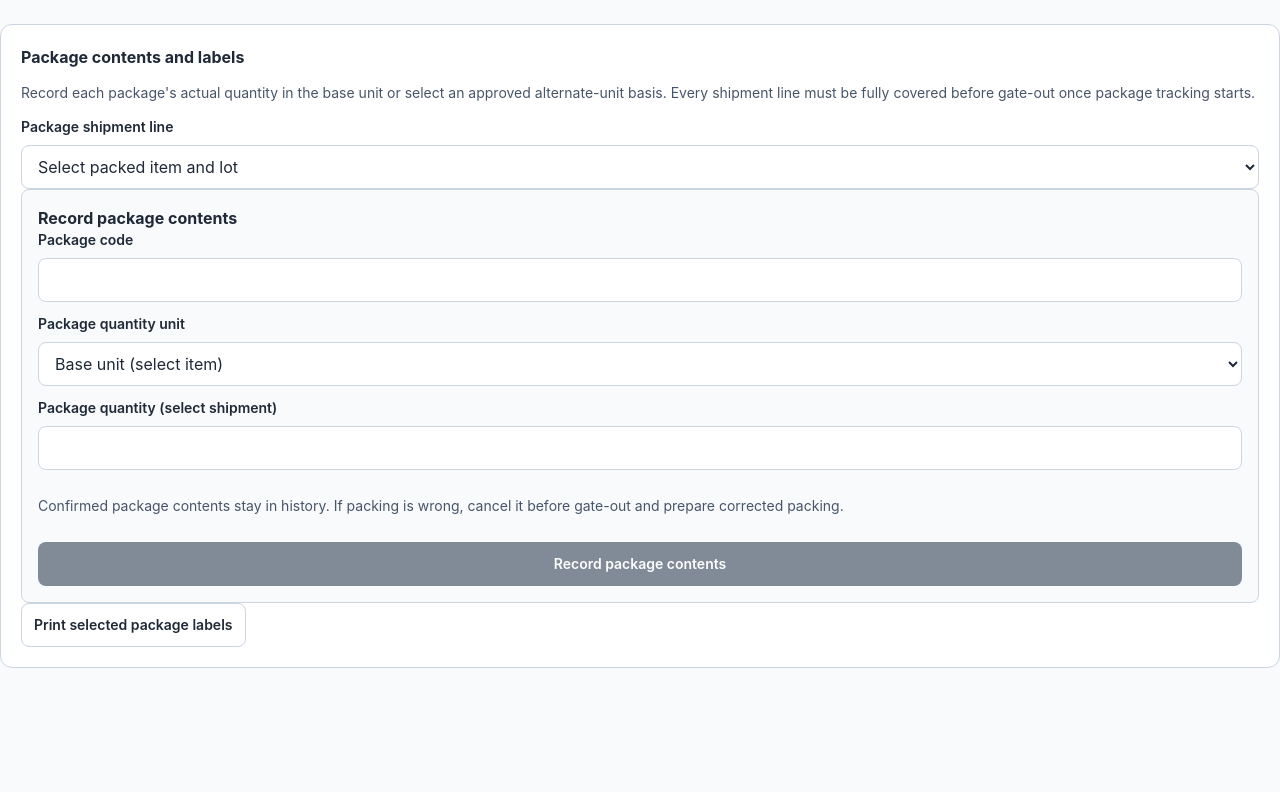
Test: preserves exact quantity and revision and waits for package confirmation
Select "SAMPLE-SHIP · SAMPLE-ITEM · SAMPLE-LOT · draft" in the dropdown labelled "Package shipment line" at (640, 167), box [21, 145, 1259, 189]
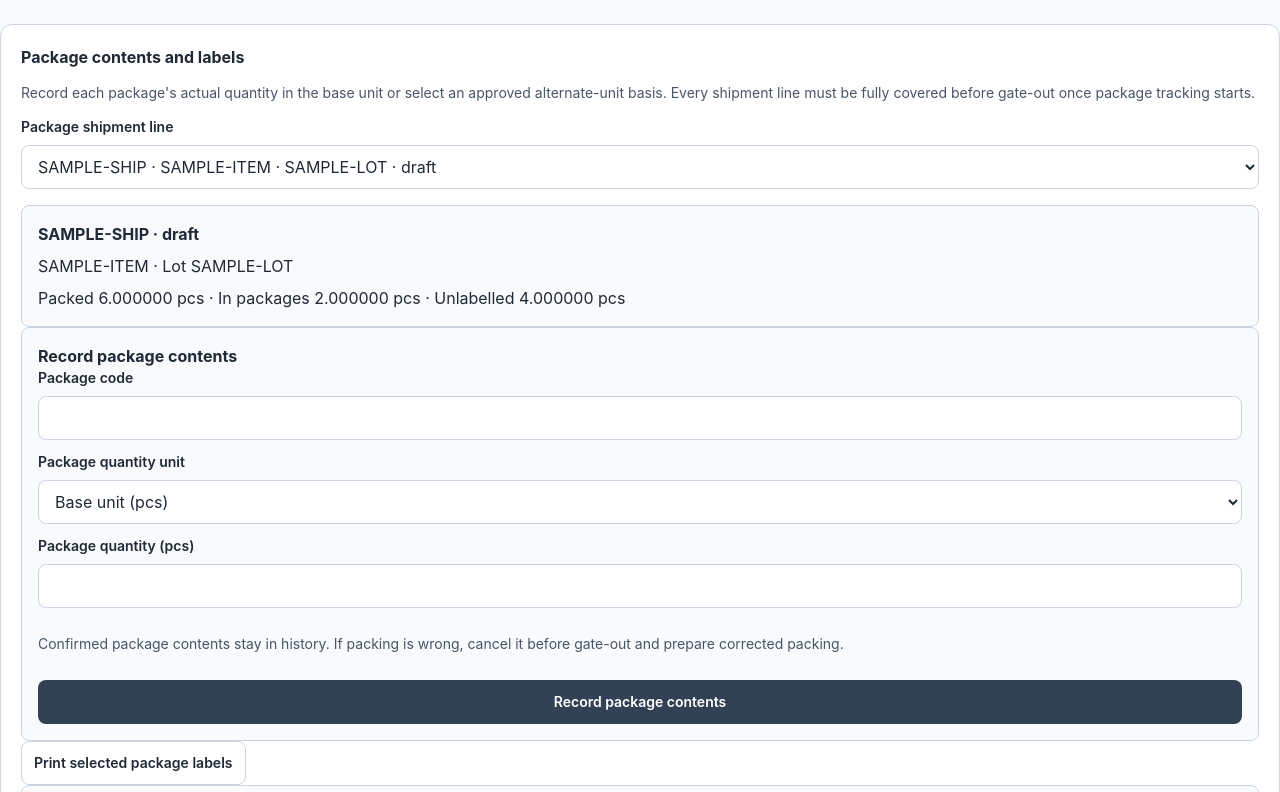
Type "SAMPLE-NEXT" into the field labelled "Package code" at (640, 418), box [38, 396, 1242, 440]
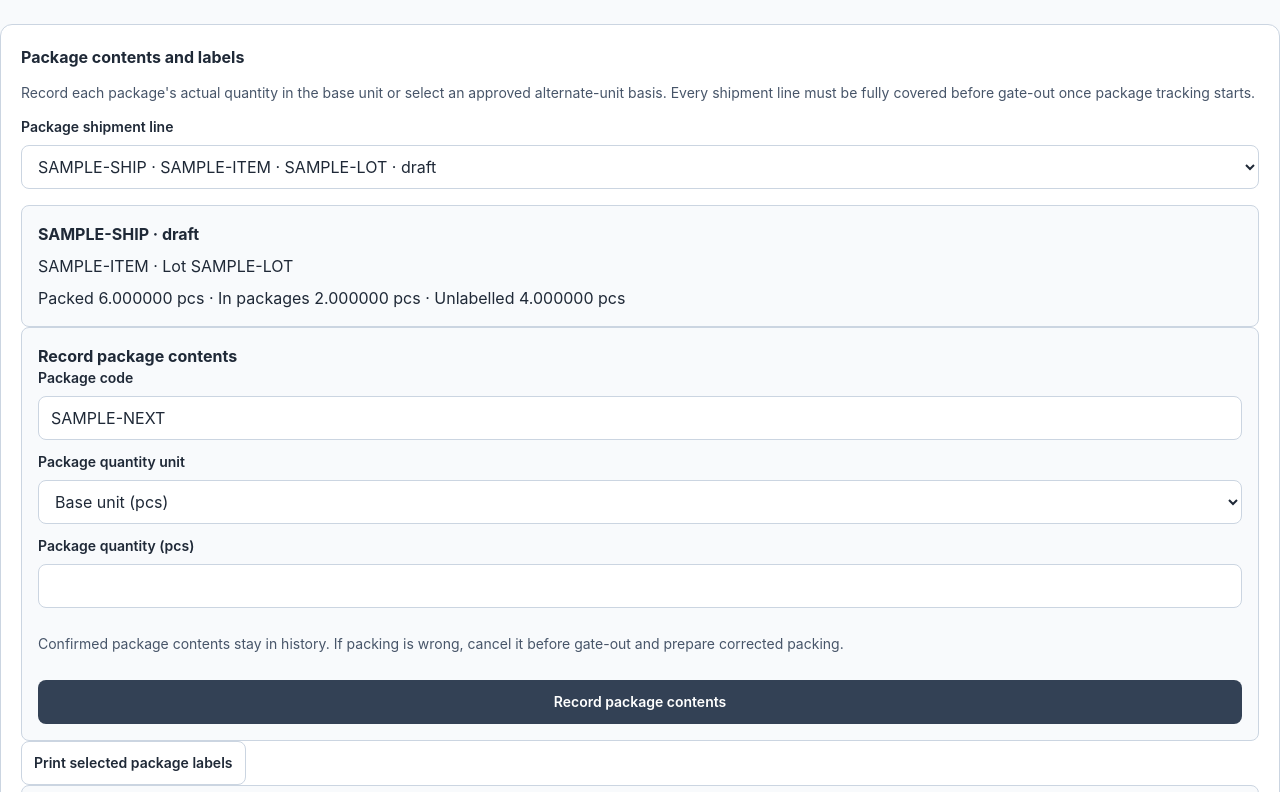
Type "0.000001" into the field labelled "Package quantity" at (640, 586), box [38, 564, 1242, 608]
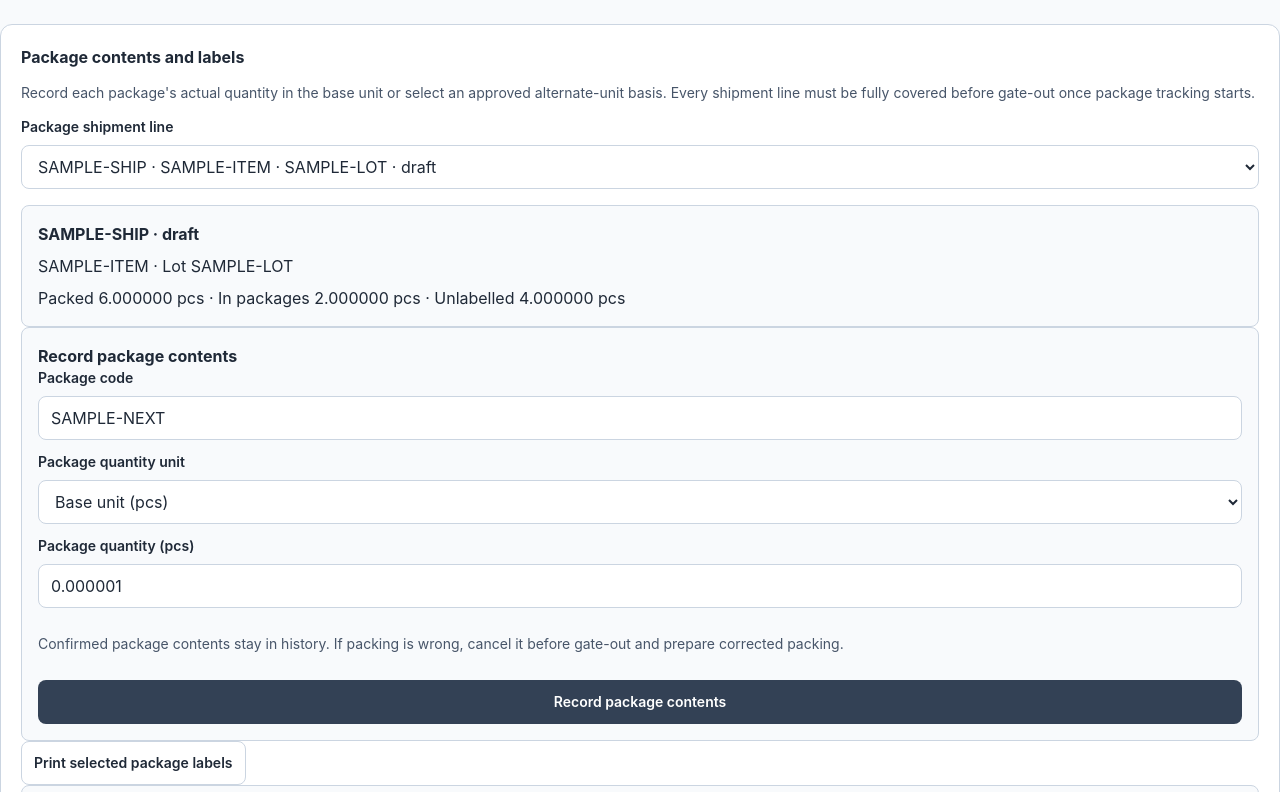
Submit the form "Record package contents", box [21, 327, 1259, 741]
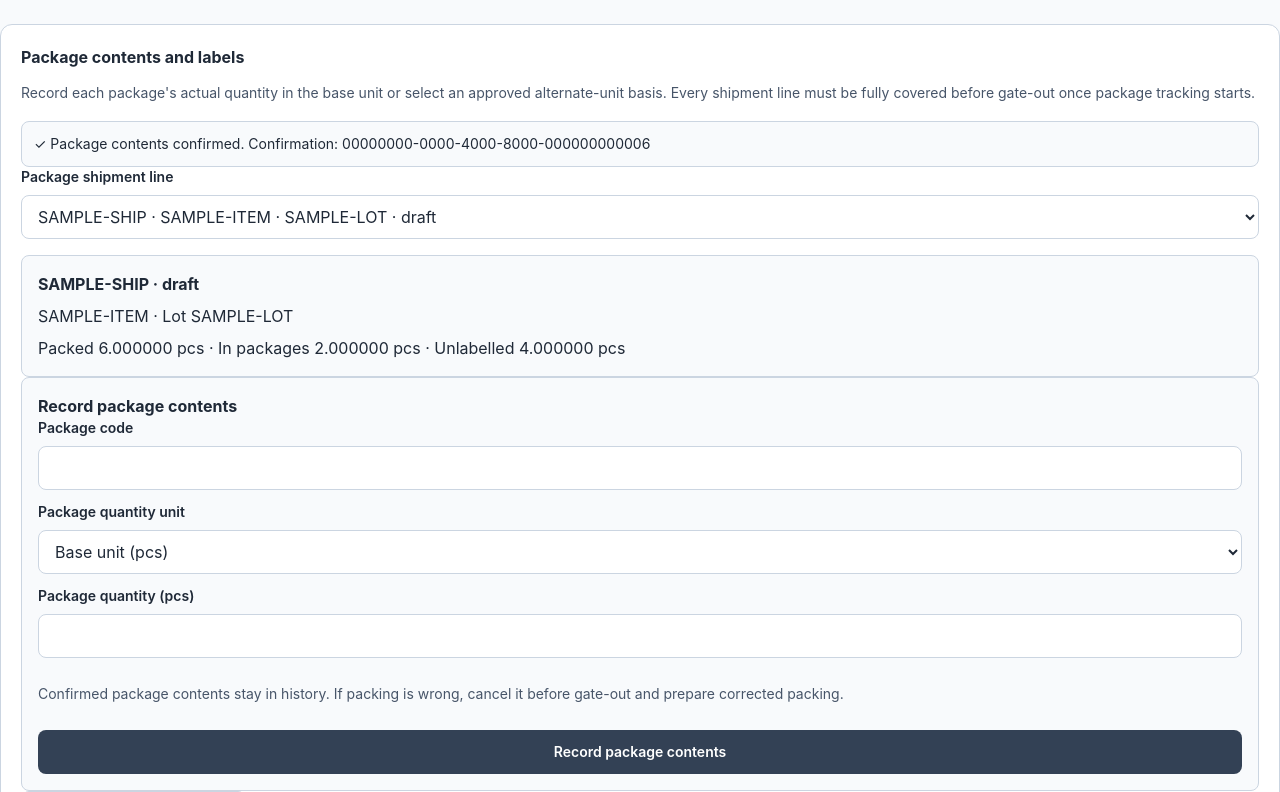
Result: the message shows "Package contents confirmed." at [50, 135, 650, 152]
